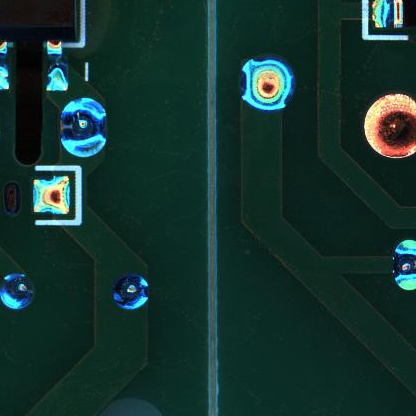spot: (60, 98, 109, 159), (241, 59, 297, 111), (1, 269, 35, 312), (112, 276, 151, 312), (393, 237, 416, 293)
